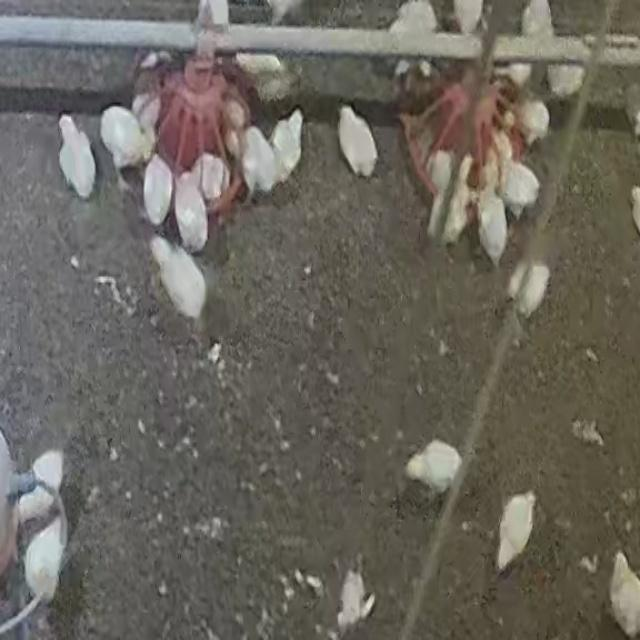chicken: (148, 236, 207, 327), (23, 512, 67, 606), (53, 114, 100, 199), (13, 449, 63, 525), (232, 42, 297, 100), (99, 104, 152, 174), (434, 156, 474, 246), (496, 492, 536, 574), (406, 439, 462, 495), (173, 168, 210, 252), (337, 104, 379, 176), (607, 550, 640, 635), (241, 125, 278, 197), (270, 109, 305, 182), (499, 159, 542, 218), (509, 258, 551, 318), (142, 154, 174, 229), (476, 192, 508, 266), (419, 140, 452, 205), (390, 1, 438, 42), (514, 98, 550, 150), (195, 153, 228, 204), (549, 63, 587, 99), (520, 1, 554, 39), (450, 1, 486, 35), (639, 0, 640, 110)
